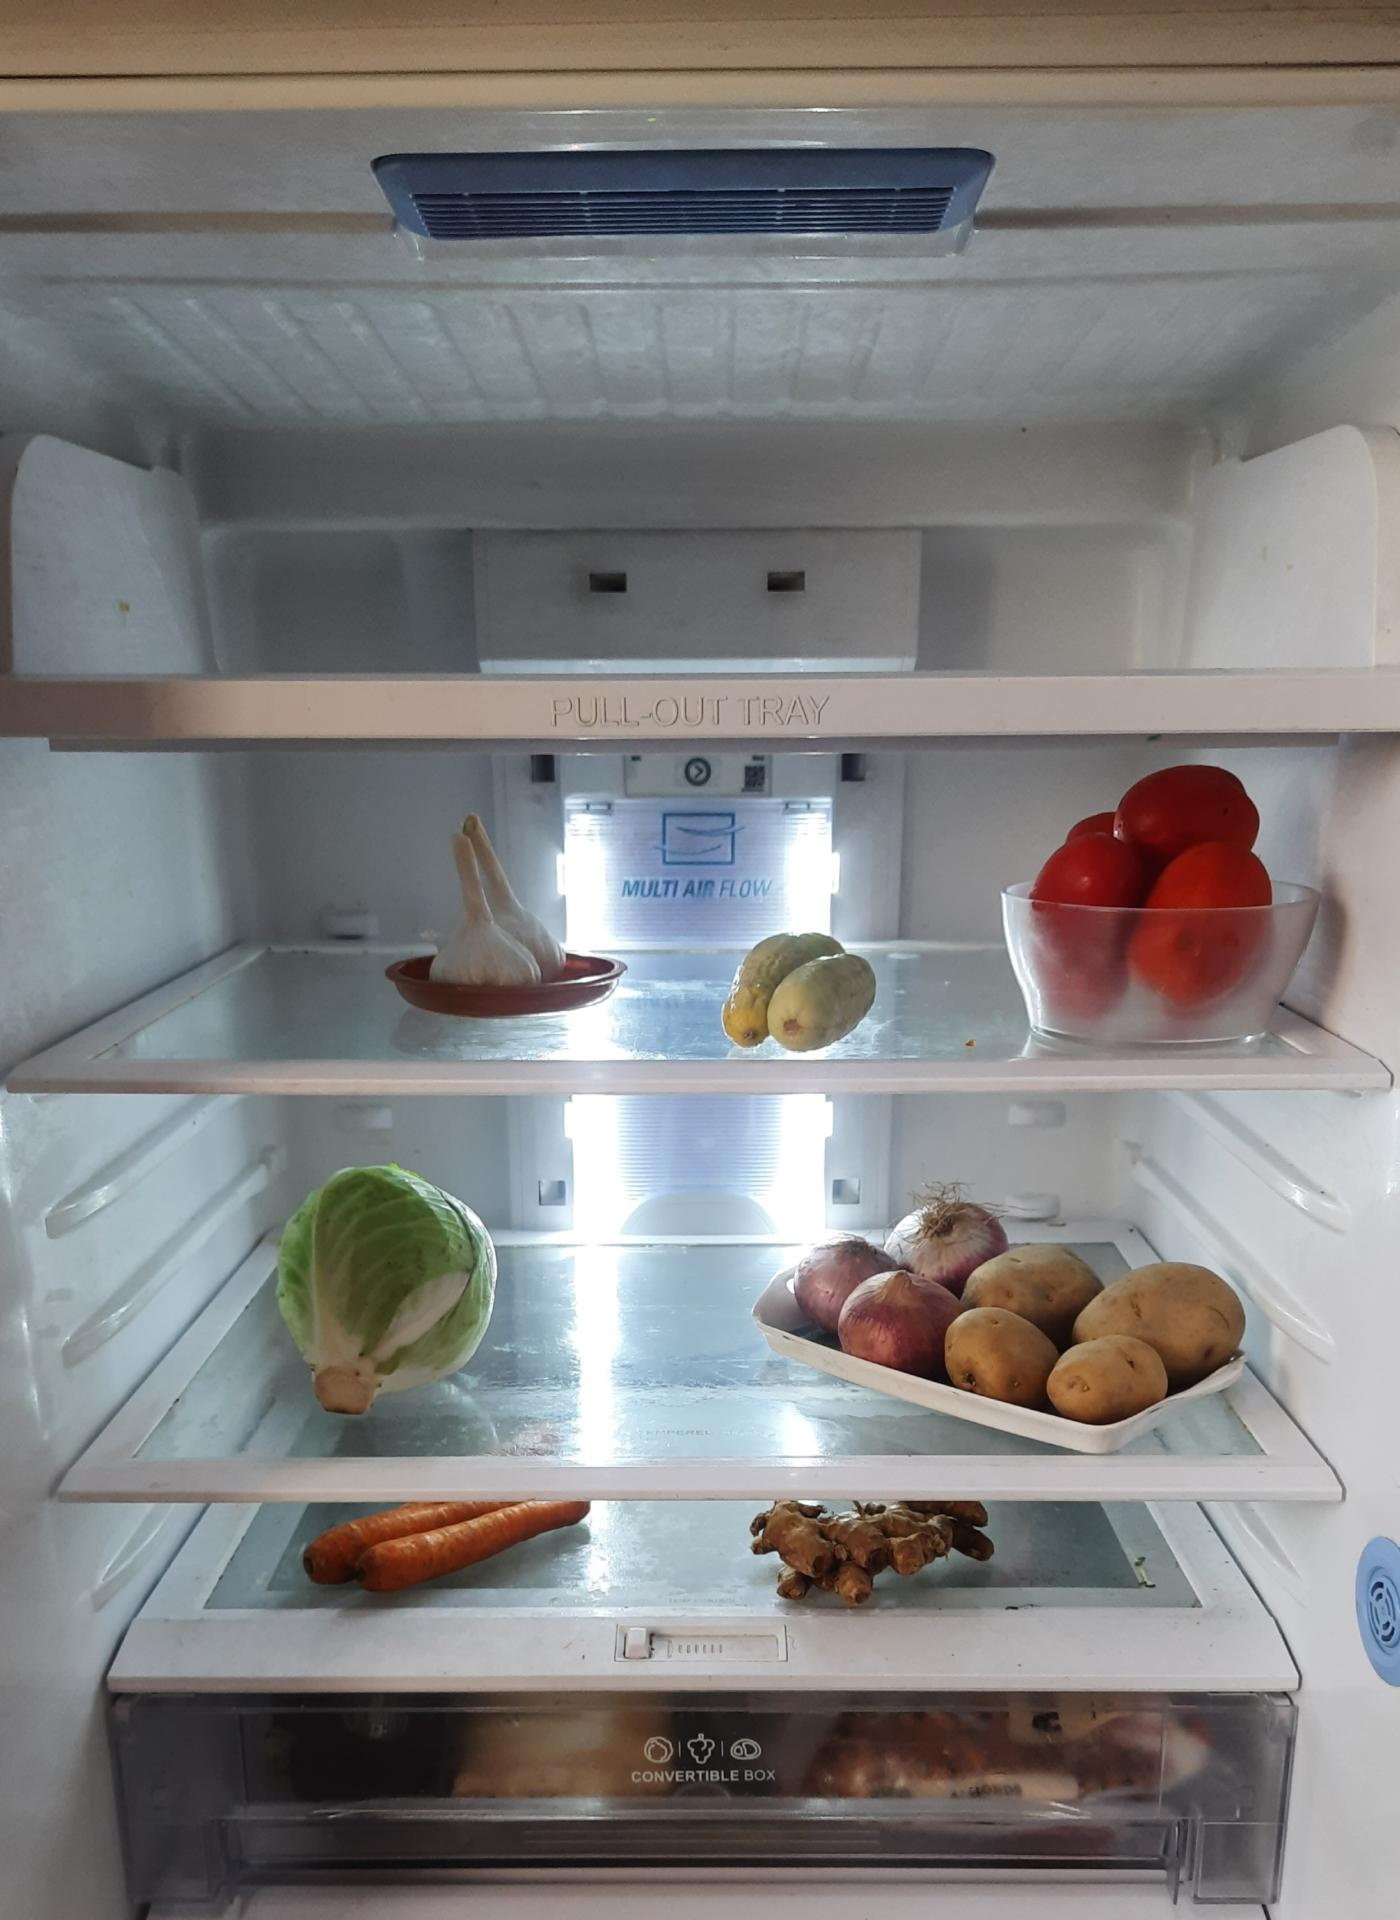cabbage: (277, 1163, 498, 1406)
carrots: (297, 1503, 590, 1598)
cucumber: (722, 936, 872, 1048)
garlic: (428, 808, 567, 996)
ginger: (759, 1492, 1005, 1602)
onion: (802, 1196, 1009, 1373)
potato: (939, 1240, 1246, 1418)
tomato: (1038, 763, 1285, 1021)
